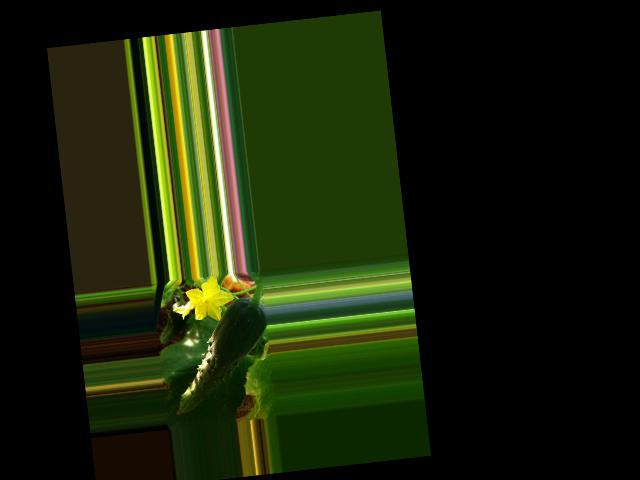cucumber: (164, 295, 276, 416)
